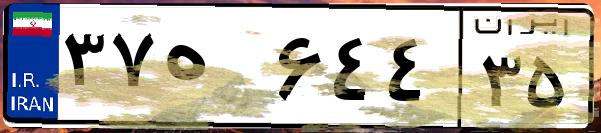3: (57, 26, 110, 100), (475, 38, 525, 113)
4: (385, 28, 445, 110), (330, 28, 385, 110)
5: (525, 38, 570, 115)
6: (270, 28, 330, 110)
7: (110, 28, 158, 98)
ه: (158, 20, 270, 120)
